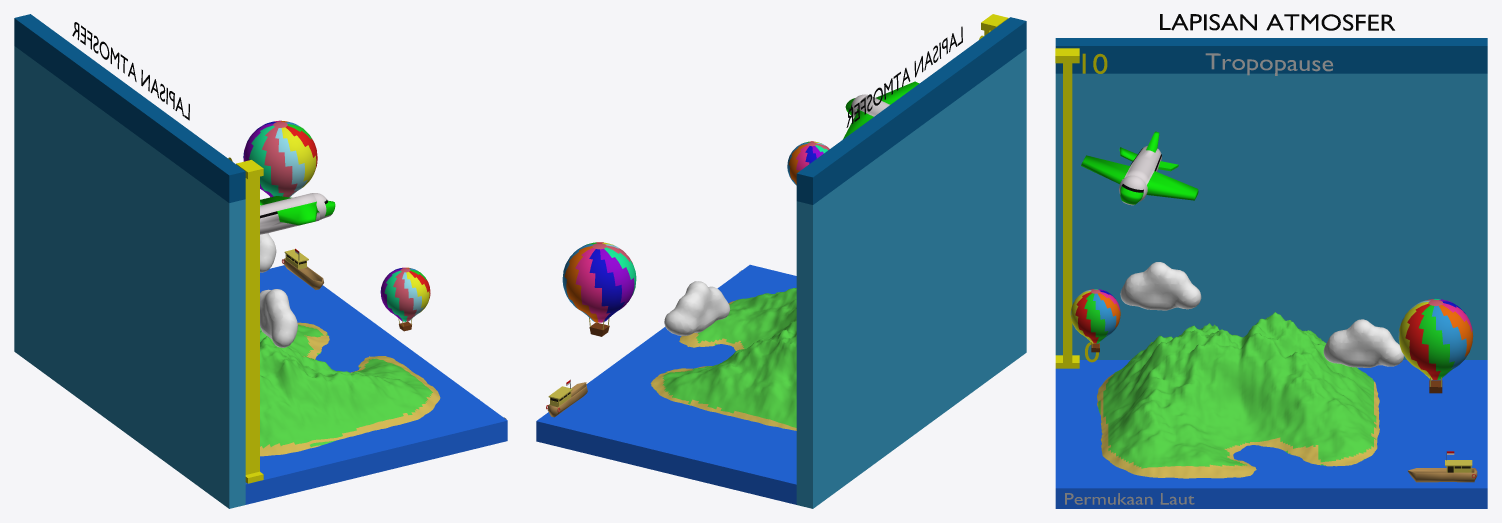
The model's file is troposfer.fbx.
The picture shows the model from 3 angles, left to right: view 1: azimuth 30°, elevation 25°; view 2: azimuth 150°, elevation 25°; view 3: azimuth 270°, elevation 25°; orthographic projection.
Parts seen in each view (by area): view 1: Cube, Landscape, Cube.001, Sphere, Cube.001_Cube.002, Cube_Cube.000, DefinitionObj_Mesh, Text.004, Cube.003; view 2: Cube, Landscape, Sphere, DefinitionObj_Mesh.004, Cube.001_Cube.002, Text.004, Cube_Cube.000, Cube.003; view 3: Cube, Landscape, Sphere, Cube.001, Cube.001_Cube.002, DefinitionObj_Mesh, DefinitionObj_Mesh.004, Cube_Cube.000, Text.004, Cube.003, Text.002, Text.003.
Boxes of the visible parts, x1,y1,x2,y2 form: Cube: (14,14,507,508); Landscape: (260,322,440,456); Cube.001: (236,160,263,483); Sphere: (243,120,317,197); Cube.001_Cube.002: (260,193,335,234); Cube_Cube.000: (380,267,430,331); DefinitionObj_Mesh: (260,289,297,347); Text.004: (72,22,189,120); Cube.003: (282,248,323,289); Cube: (536,17,1026,508); Landscape: (650,288,796,430); Sphere: (562,242,636,336); DefinitionObj_Mesh.004: (664,281,730,335); Cube.001_Cube.002: (843,81,919,139); Text.004: (846,26,962,127); Cube_Cube.000: (787,141,829,185); Cube.003: (546,379,587,417); Cube: (1055,38,1487,508); Landscape: (1097,312,1379,478); Sphere: (1398,298,1473,393); Cube.001: (1055,48,1079,368); Cube.001_Cube.002: (1081,131,1198,205); DefinitionObj_Mesh: (1120,262,1201,310); DefinitionObj_Mesh.004: (1323,319,1404,367); Cube_Cube.000: (1070,289,1120,352); Text.004: (1160,14,1394,30); Cube.003: (1408,451,1477,482); Text.002: (1205,53,1332,75); Text.003: (1065,493,1194,504).
Size of the model in its own units: 539 by 663 by 712.
